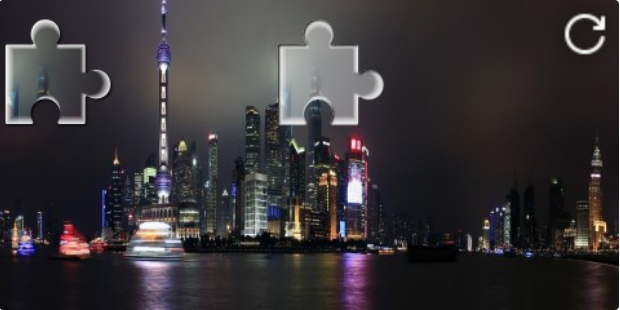target: (279, 21, 385, 125)
